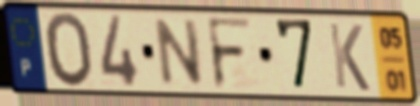4: (97, 13, 141, 90)
7: (272, 16, 315, 95)
F: (204, 15, 256, 93)
K: (325, 20, 372, 94)
N: (153, 16, 206, 89)
O: (42, 9, 96, 90)
